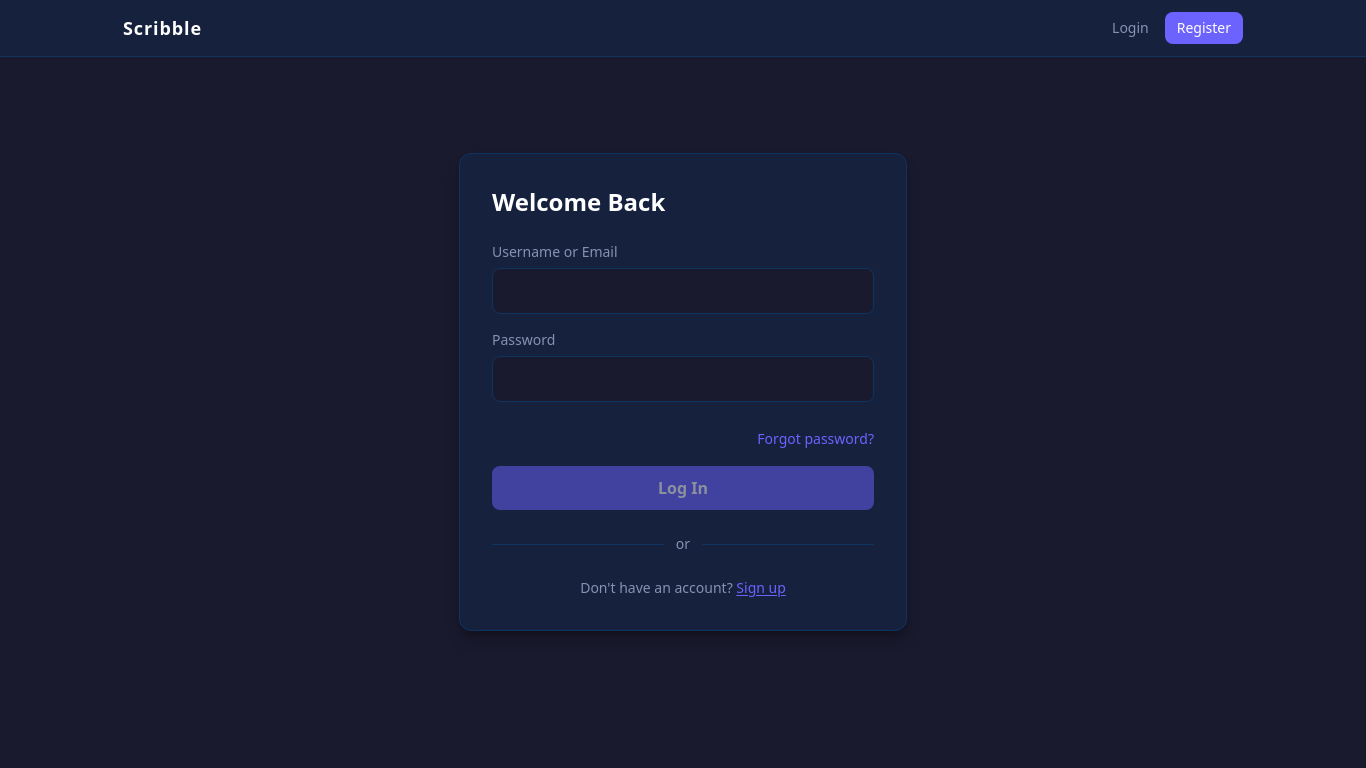
Test case: LoginPage › shows error message on failed login
Type "testuser" into the field labelled "Username or Email" at {"x": 683, "y": 291}, box [492,268,874,314]
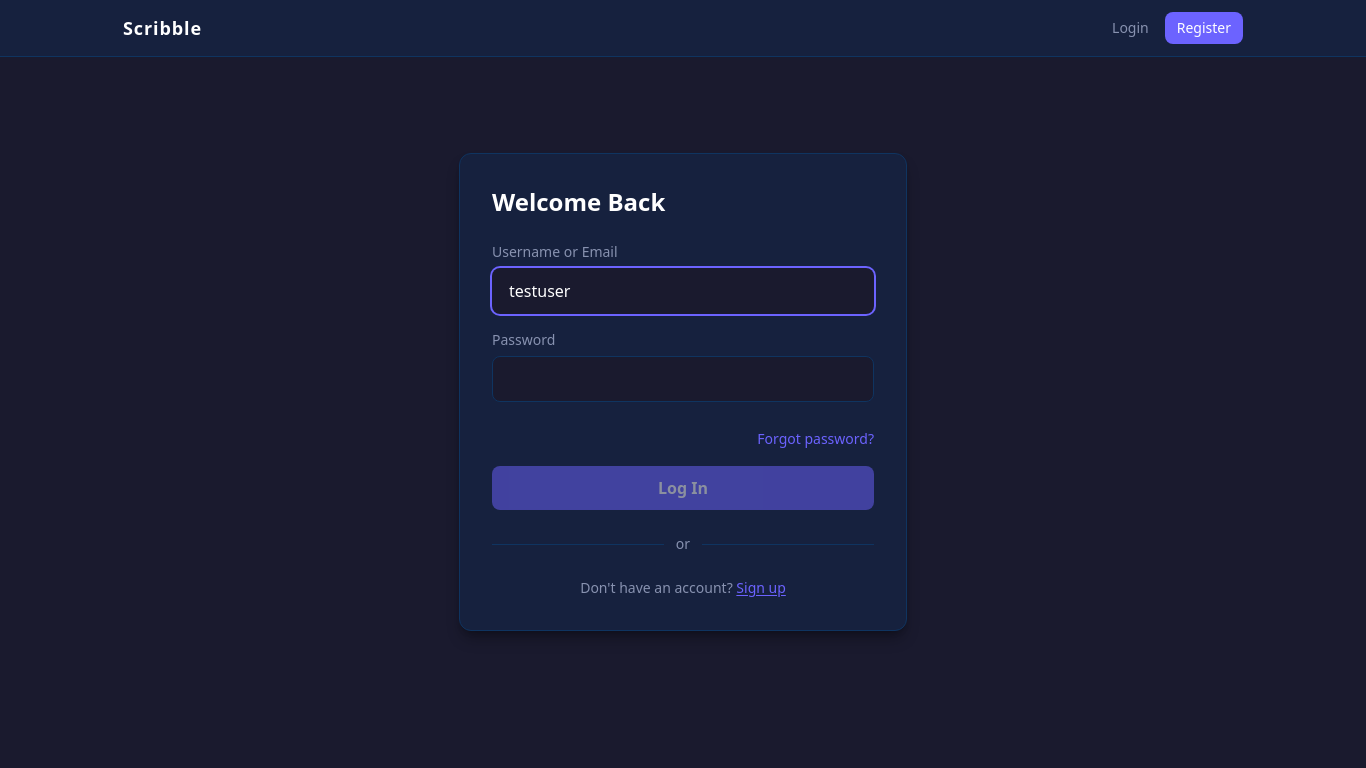
Type "wrongpass" into the password field labelled "Password" at {"x": 683, "y": 379}, box [492,356,874,402]
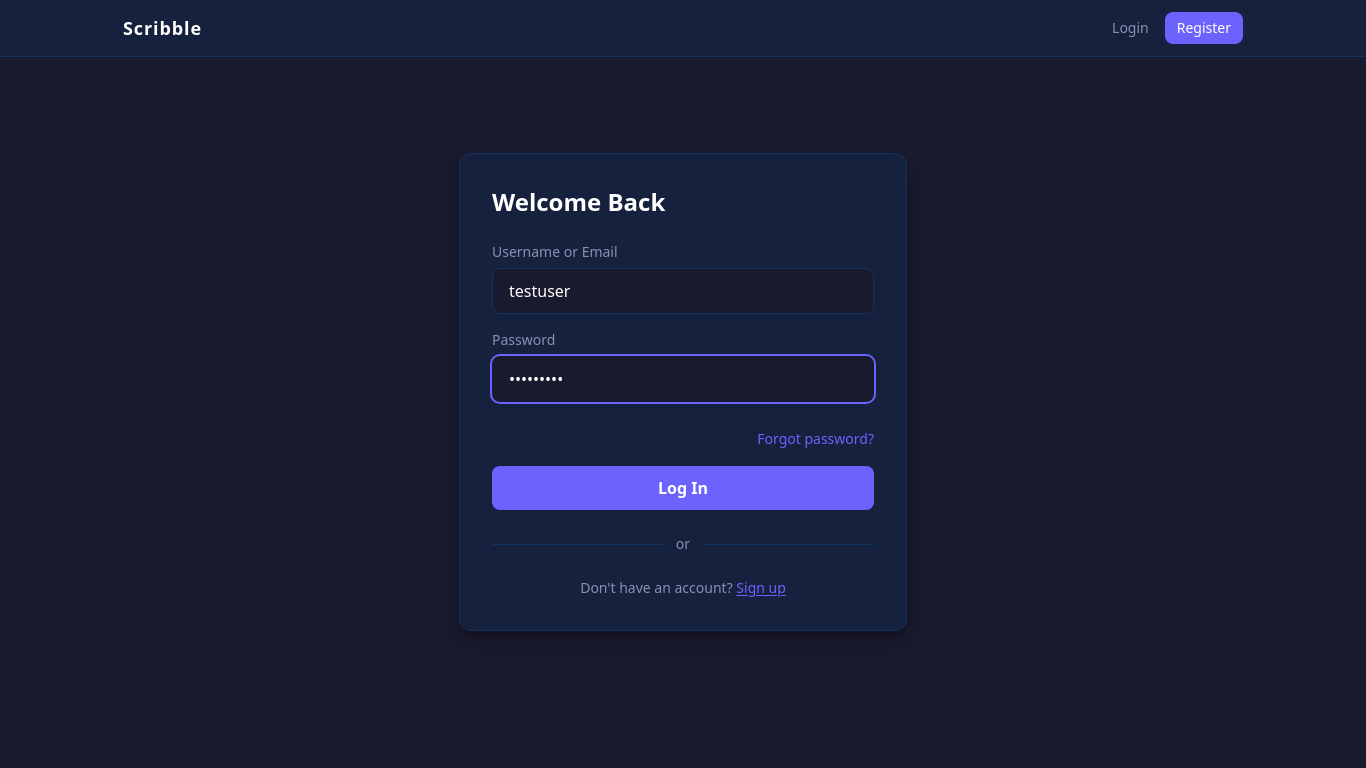
Click the button "Log In" at {"x": 683, "y": 488}, box [492,466,874,510]
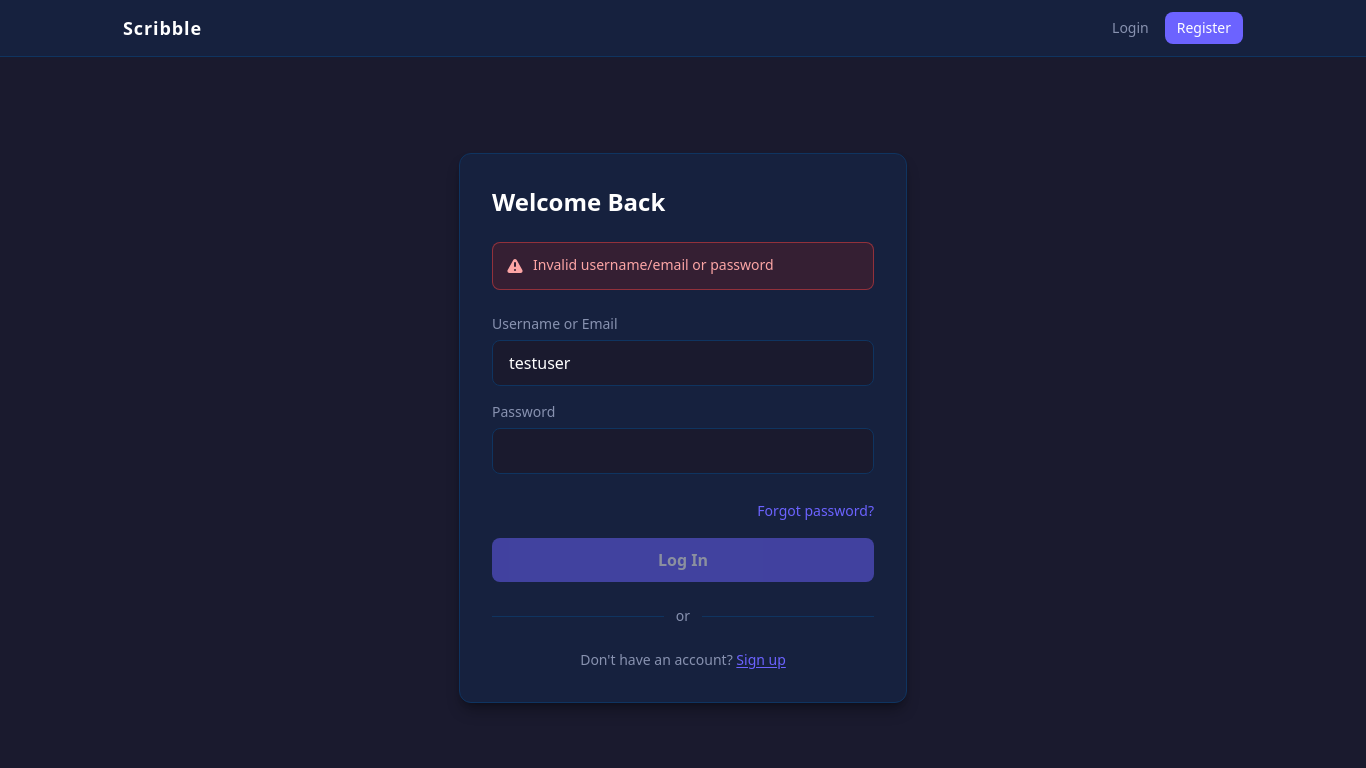
Check: the text "Invalid username/email or password" is shown, box [533,255,774,275]
